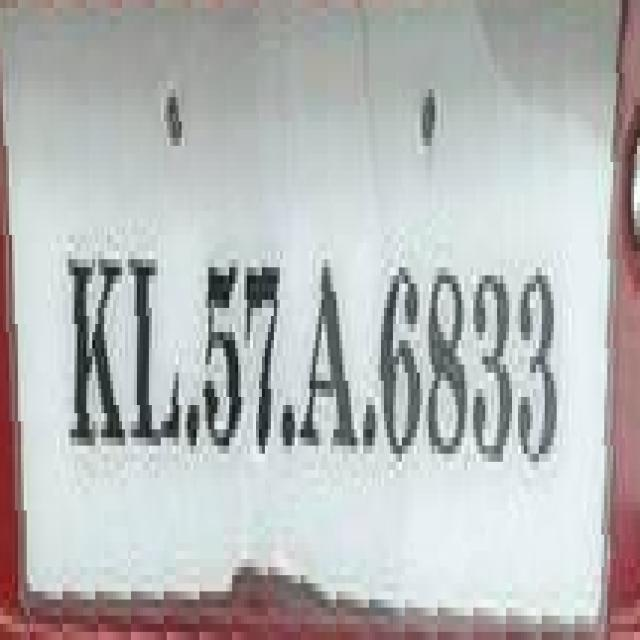license_plate: (0, 16, 613, 583)
